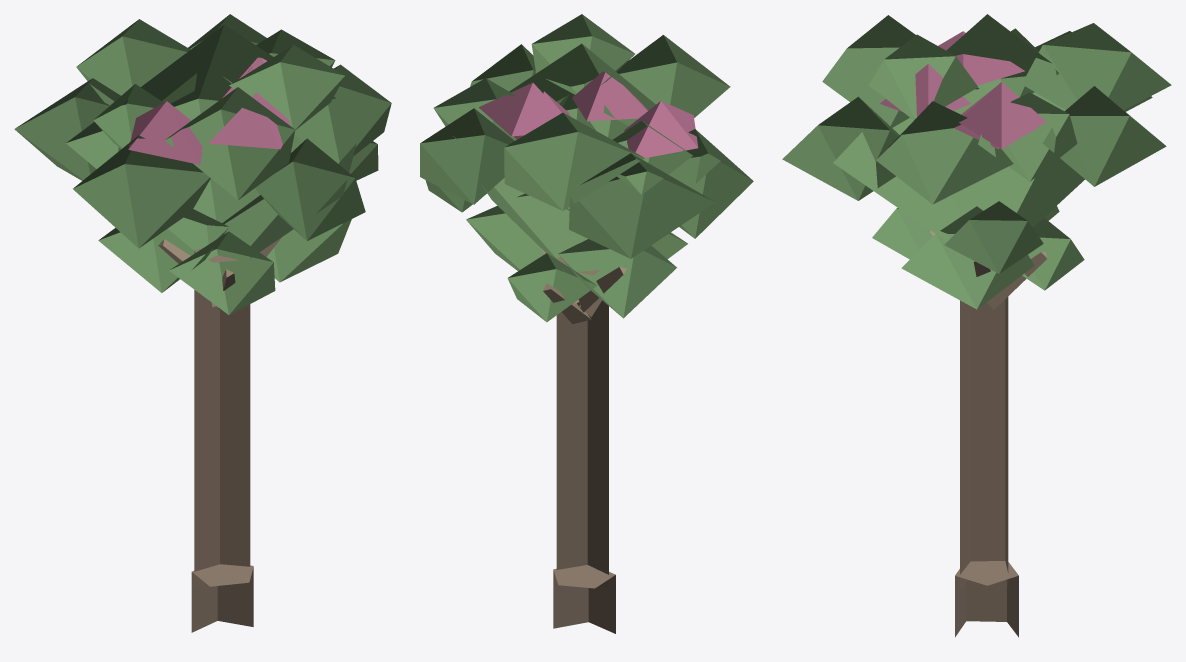
The model's file is tree.trop.kapok__summer.glb.
3 views of the same model, side by side, from view 1: azimuth 30°, elevation 25°; view 2: azimuth 150°, elevation 25°; view 3: azimuth 270°, elevation 25° (orthographic). The views are drawn at different scales.
Parts seen in each view (by area): view 1: tree.trop.kapok__summer; view 2: tree.trop.kapok__summer; view 3: tree.trop.kapok__summer.
Boxes of the visible parts, left/top/right/bottom form: tree.trop.kapok__summer: left=14, top=14, right=391, bottom=632; tree.trop.kapok__summer: left=420, top=14, right=753, bottom=633; tree.trop.kapok__summer: left=782, top=14, right=1171, bottom=637.
Size of the model in its own units: 16.21 by 30.29 by 17.27.
